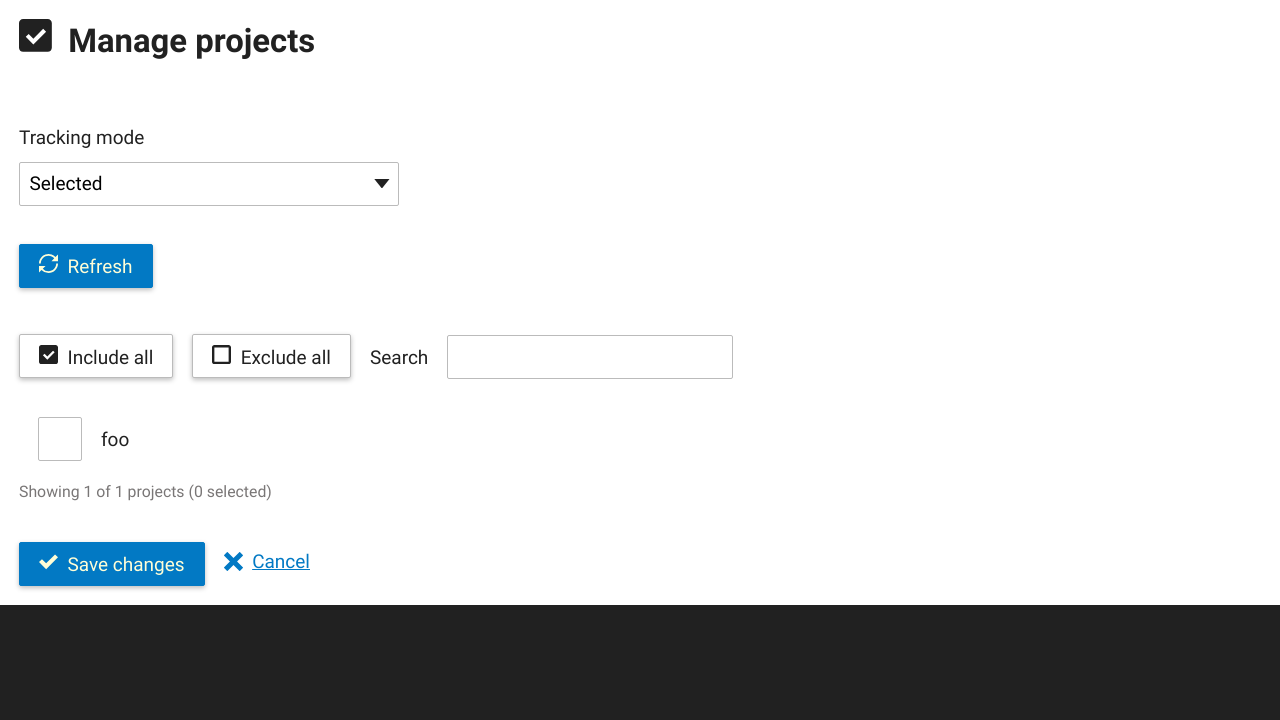
Test: should show a warning if no projects match the search
This screenshot has width=1280, height=720.
Type "bar" into the search field labelled "Search" at (590, 357), box 447,335 -> 733,379
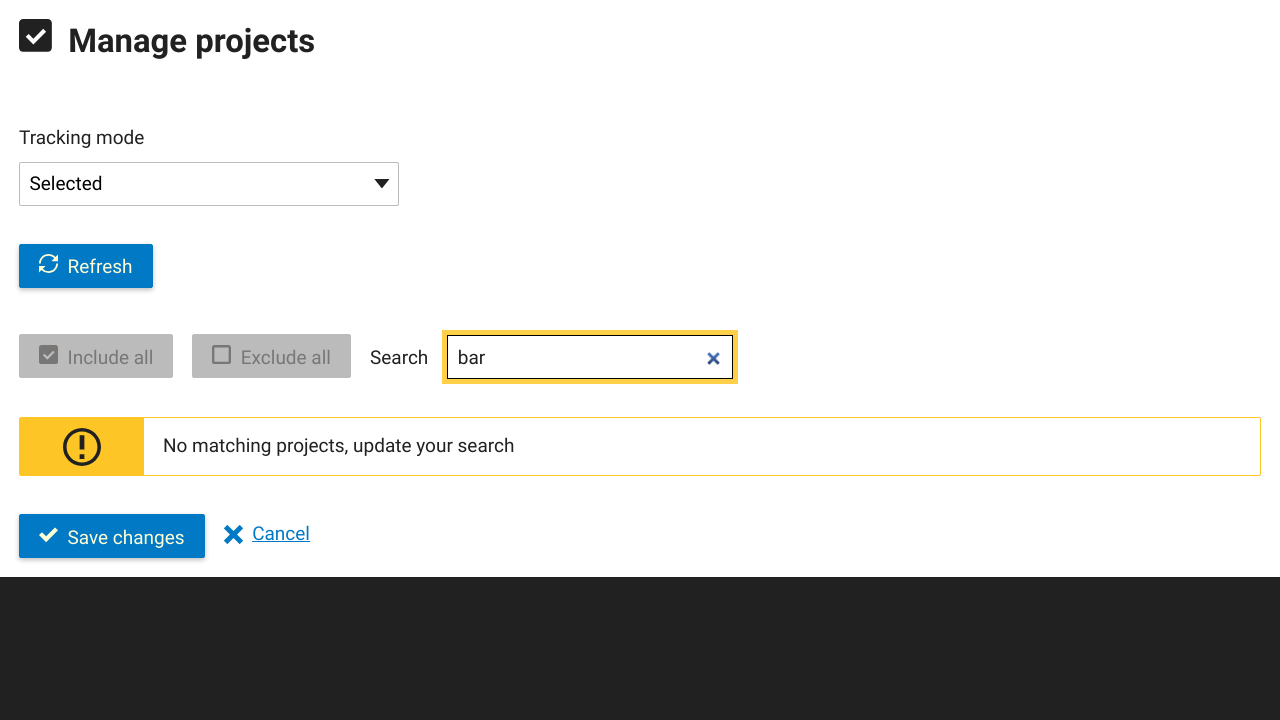
Now the list item "No matching projects, update your search" is shown, box 163,434 -> 514,457
Now the button "Include all" is disabled, box 19,334 -> 173,378
Now the button "Exclude all" is disabled, box 192,334 -> 351,378
